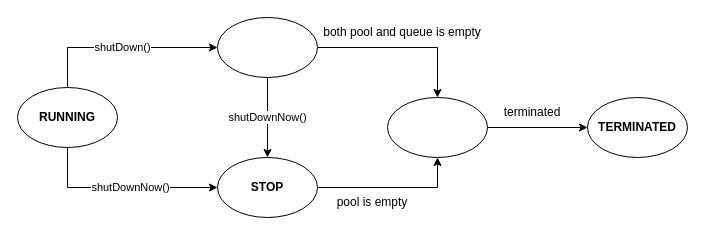
Image size: 705x235. Some labels were removed from this diagram. Here are the shapes that lost their labels. From the top down, the centre of each, then its label:
At (x=267, y=47): "SHUTDOWN".
At (x=437, y=127): "TIDYING".
